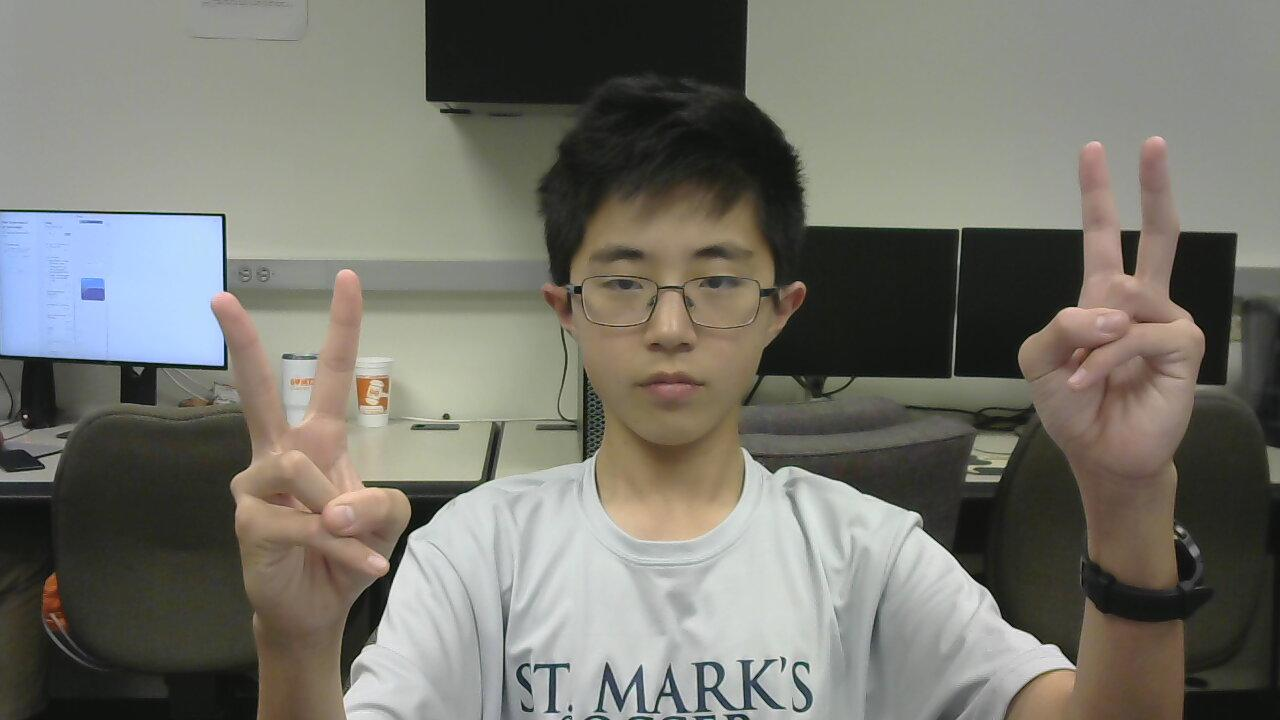peace: (161, 272, 421, 651), (1026, 129, 1214, 491)
